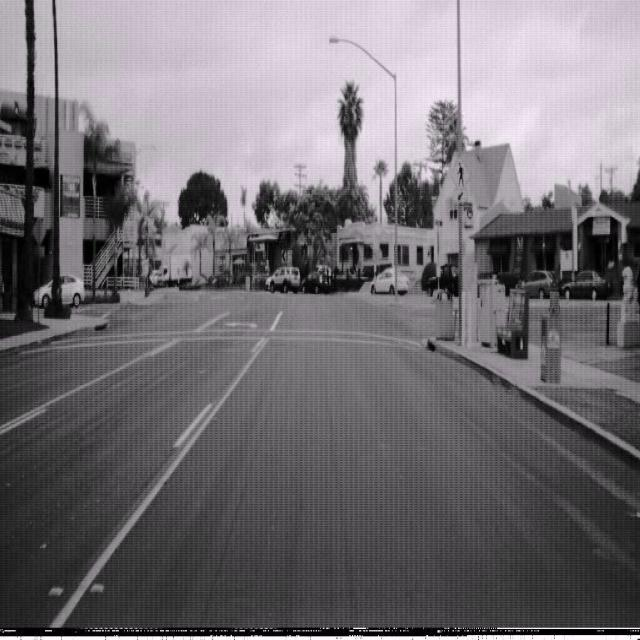pedestrianCrossing: (449, 153, 470, 195)
